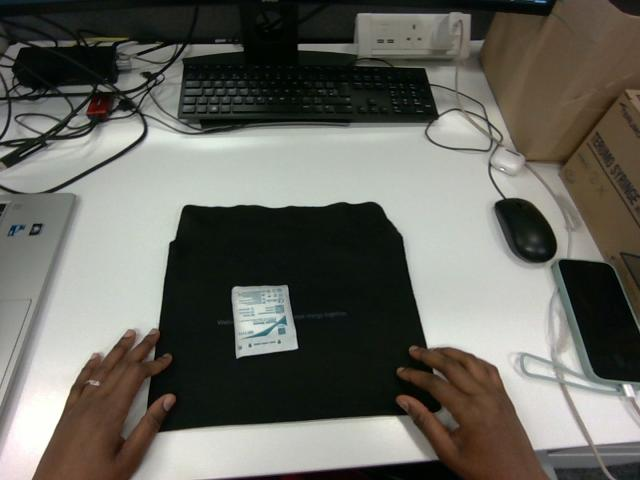gauze: (232, 285, 297, 357)
